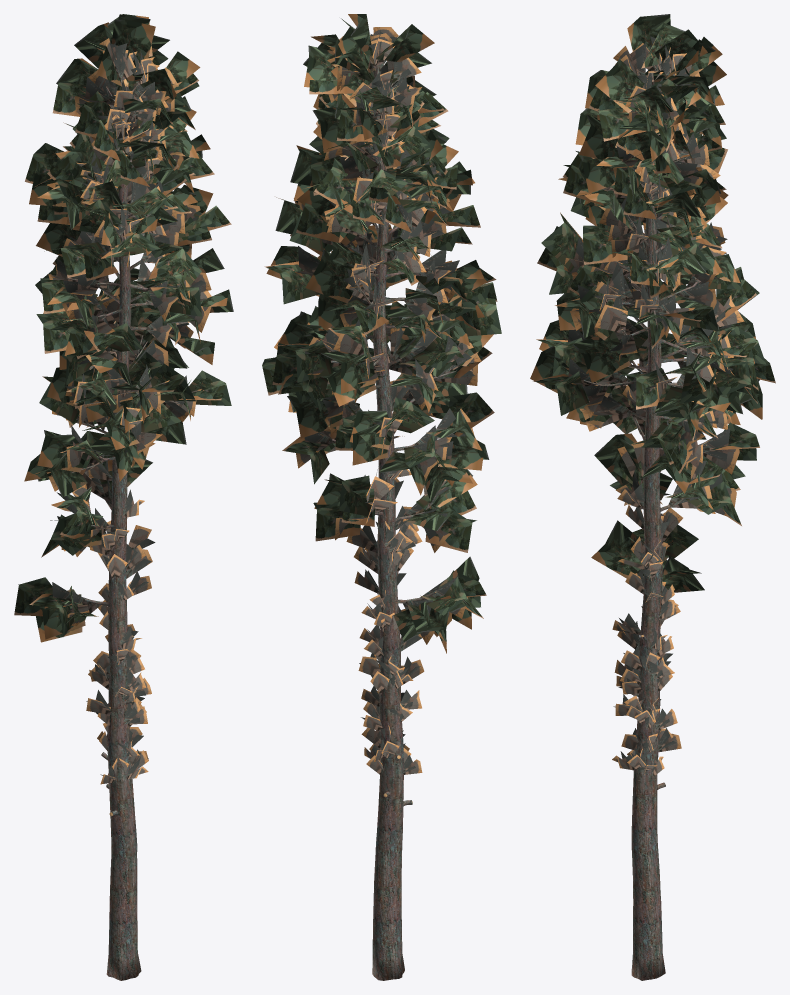
The model's file is Tree_08.fbx.
The picture shows the model from 3 angles, left to right: view 1: azimuth 30°, elevation 25°; view 2: azimuth 150°, elevation 25°; view 3: azimuth 270°, elevation 25°; orthographic projection.
Parts seen in each view (by area): view 1: LOD0; view 2: LOD0; view 3: LOD0.
Part boxes in pixels (x1,y1,x2,y2): LOD0: (14, 14, 233, 980); LOD0: (262, 14, 501, 980); LOD0: (530, 14, 775, 980).
Bounding box in the file's own units: 437 × 1917 × 446.
